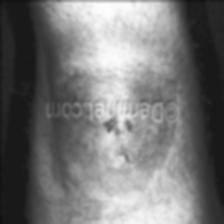Toxin: (51, 120, 176, 186), (59, 51, 175, 94)
